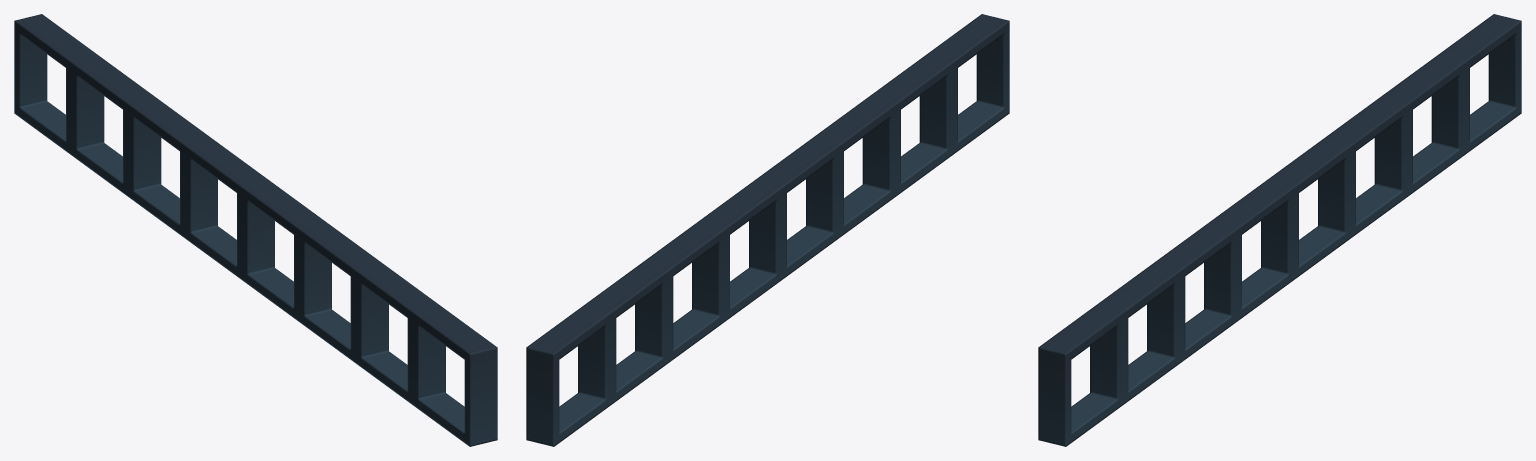
File: SM_pillar_top_connector.fbx
3 views of the same model, side by side, from view 1: azimuth 30°, elevation 25°; view 2: azimuth 150°, elevation 25°; view 3: azimuth 330°, elevation 25° (orthographic).
Parts seen in each view (by area): view 1: SM_pillar_top_connector; view 2: SM_pillar_top_connector; view 3: SM_pillar_top_connector.
Part boxes in pixels (x1,y1,x2,y2): SM_pillar_top_connector: (14,14,497,446); SM_pillar_top_connector: (526,14,1009,446); SM_pillar_top_connector: (1038,14,1521,446).
Bounding box in the file's own units: 14 × 45 × 400.
